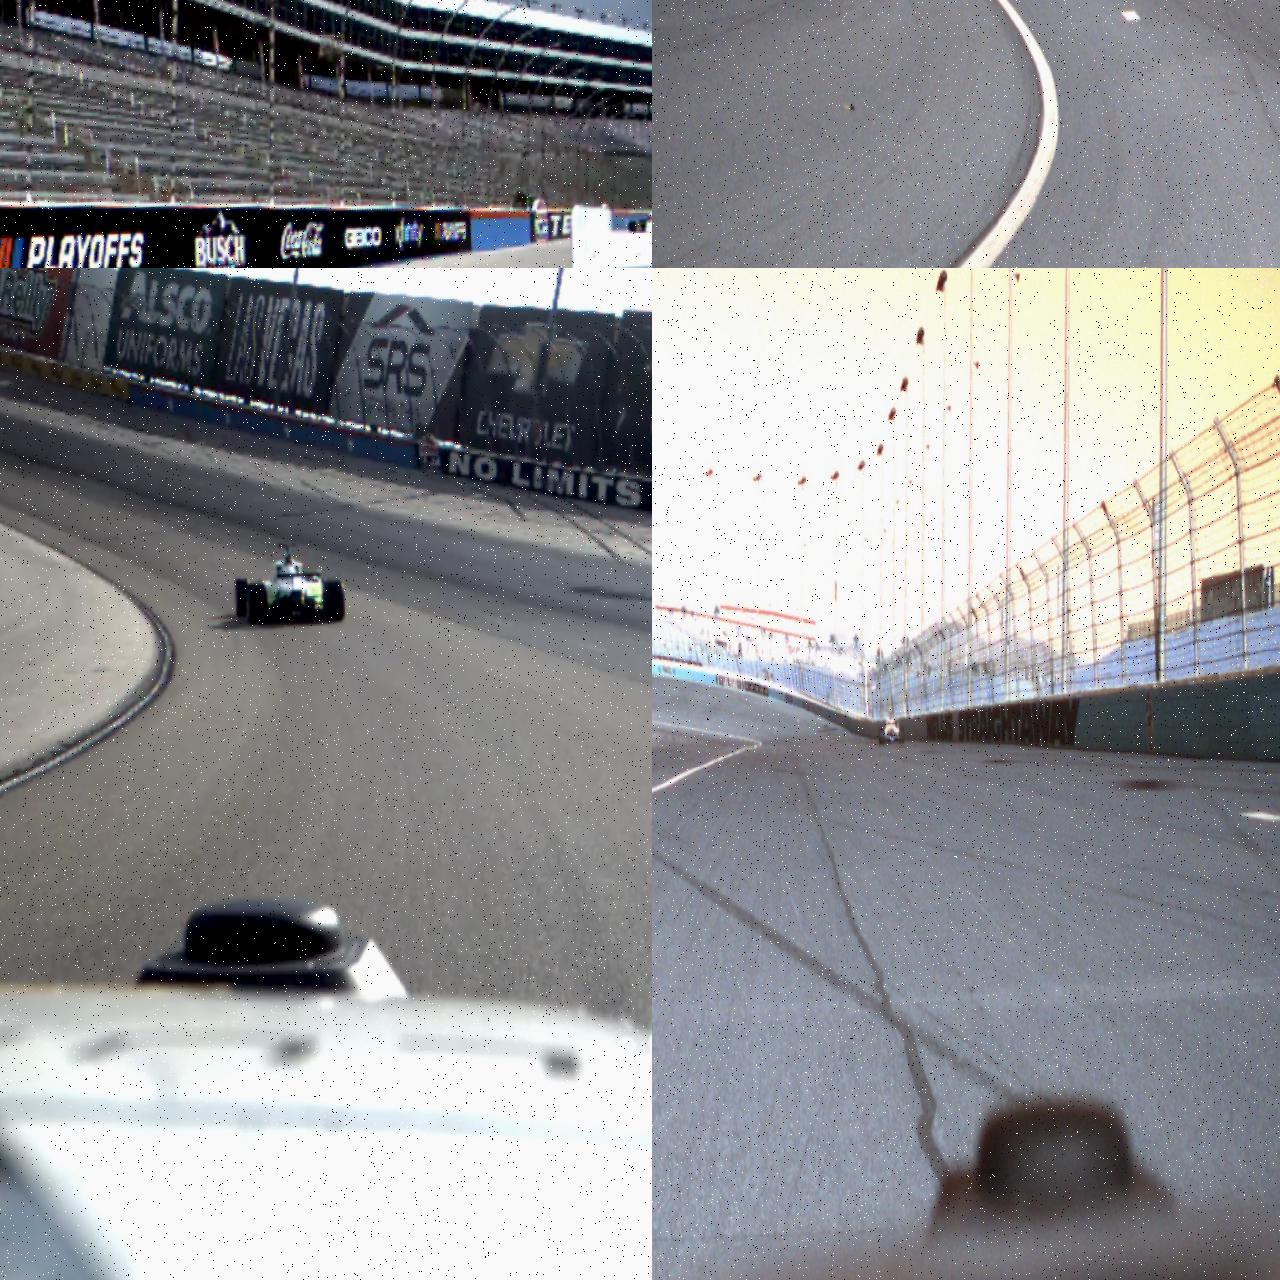AV: (232, 542, 345, 627), (877, 712, 905, 744), (626, 204, 652, 232)
Wheel: (245, 583, 267, 626), (324, 579, 345, 622), (234, 578, 250, 618), (878, 726, 885, 744), (899, 726, 905, 742)
